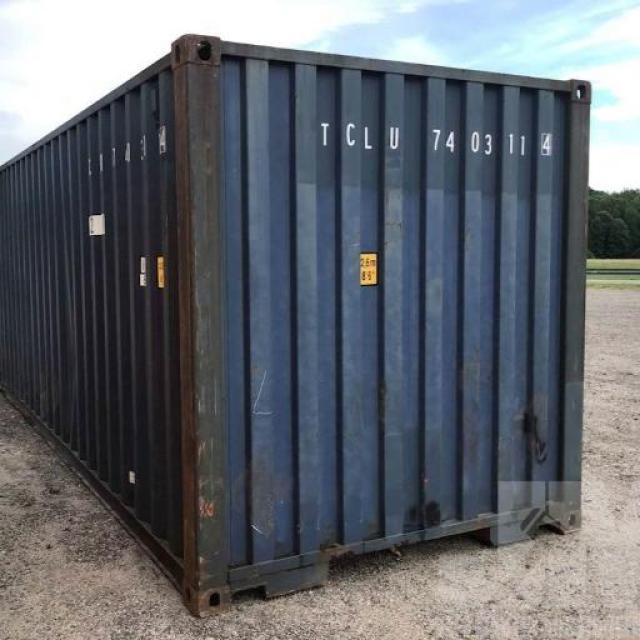container_number: (321, 126, 558, 154)
